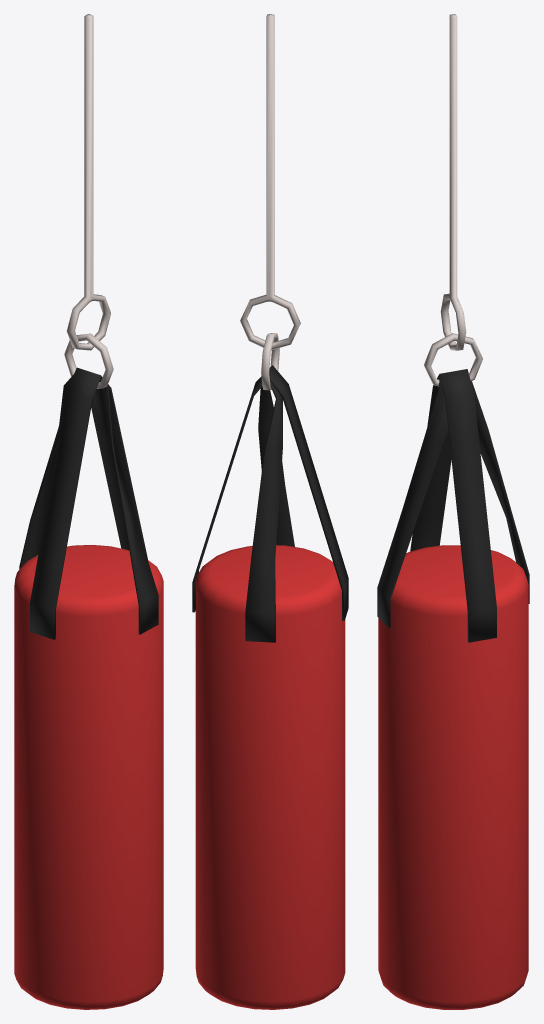
The model's file is Punching_bag.fbx.
The picture shows the model from 3 angles, left to right: view 1: azimuth 30°, elevation 25°; view 2: azimuth 150°, elevation 25°; view 3: azimuth 270°, elevation 25°; orthographic projection.
Visible parts, largest first — view 1: punching bag, punching bag.001; view 2: punching bag, punching bag.001; view 3: punching bag, punching bag.001.
Part boxes in pixels (box(x1,y1,x2,y2)): punching bag: box(14, 333, 163, 1009); punching bag.001: box(67, 14, 110, 350); punching bag: box(192, 333, 348, 1009); punching bag.001: box(240, 14, 300, 350); punching bag: box(377, 333, 529, 1009); punching bag.001: box(440, 14, 466, 350).
Bounding box in the file's own units: 39.49 × 274 × 39.08.
